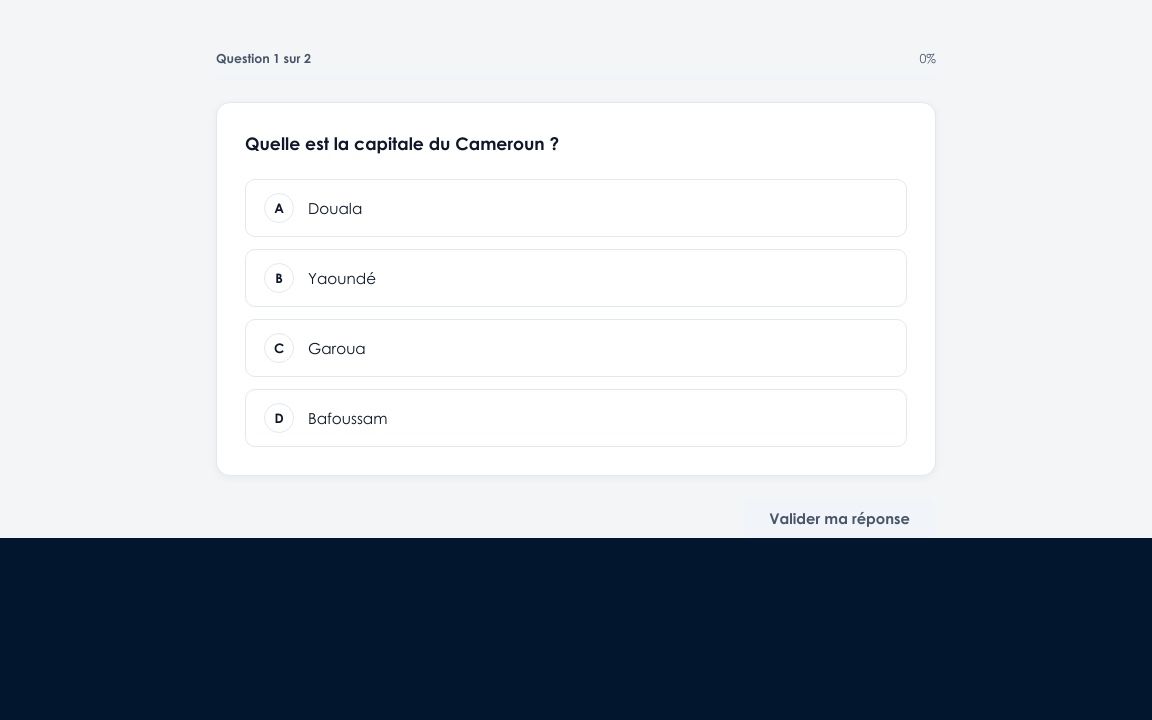
QuizPlayer › active le bouton apres clic sur une option
Step 1. Click the text "Yaoundé" → coordinates (342, 278), box [308,269,376,287]
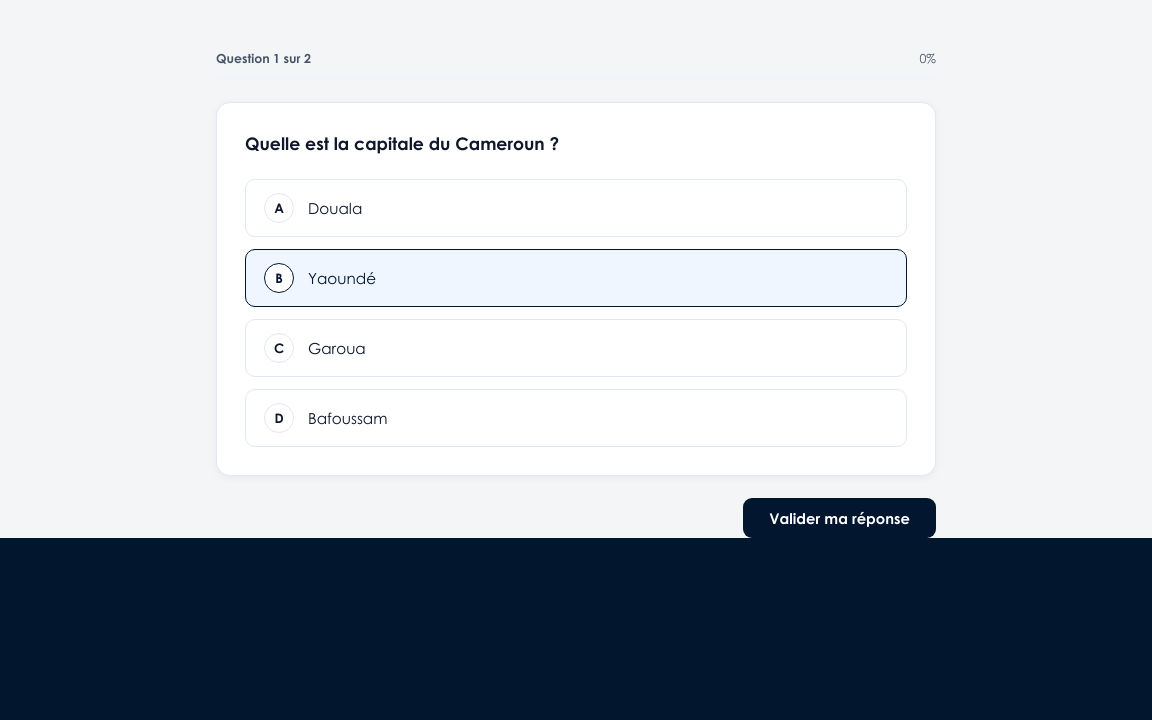
Result: the button "Valider ma réponse" is enabled at [743,498,936,538]
